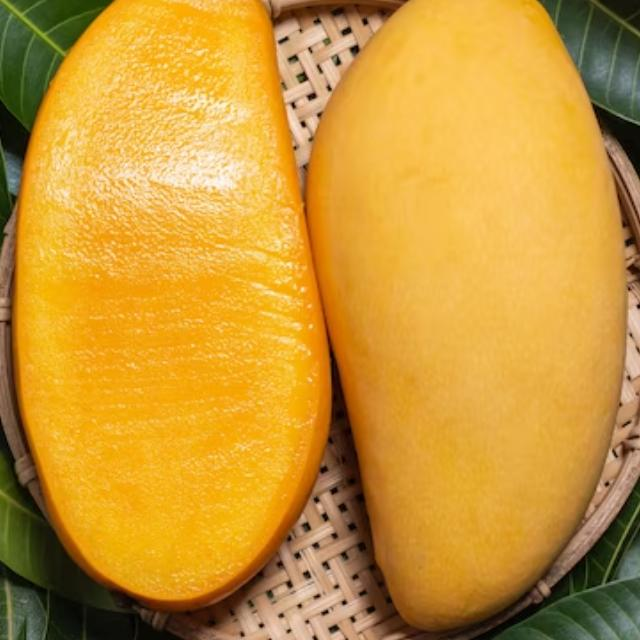mango: (310, 0, 632, 640), (8, 0, 330, 608)
